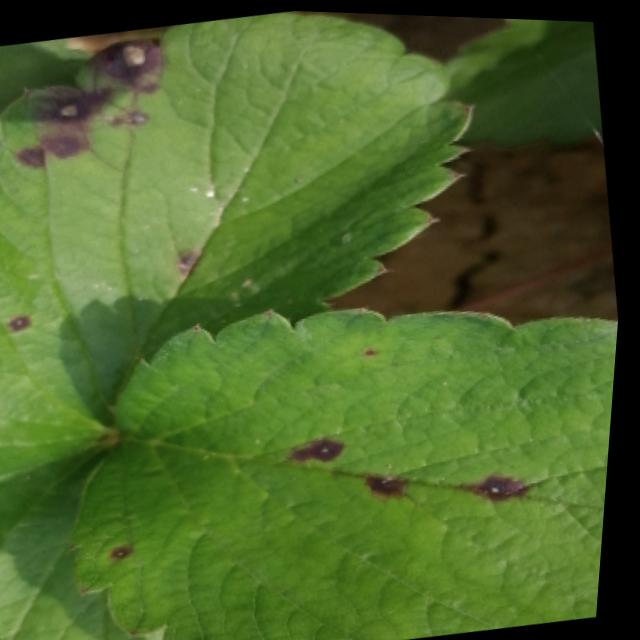Leaf Spot: (0, 9, 476, 482), (76, 306, 623, 640), (0, 435, 162, 640)
